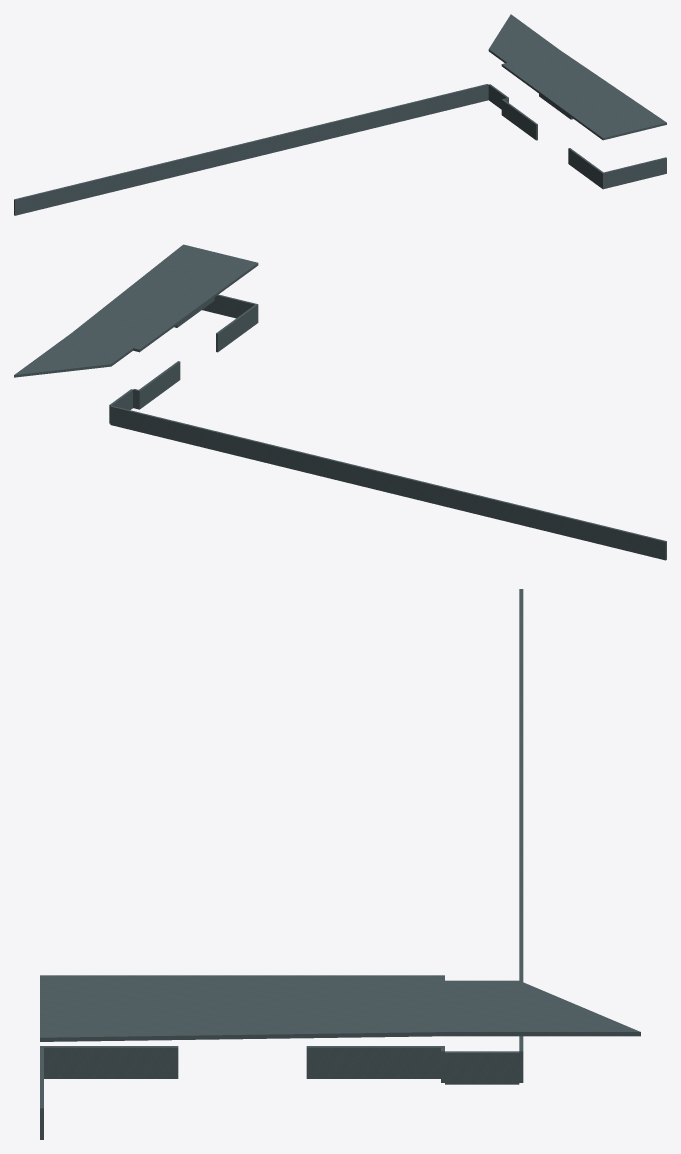
Rendered from AST-STF-009_lower_cap_only_successor_r001.glb.
3 renders of one model, top to bottom at view 1: azimuth 30°, elevation 25°; view 2: azimuth 150°, elevation 25°; view 3: azimuth 270°, elevation 25°, orthographic. The views are drawn at different scales.
Visible parts, largest first — view 1: HOME_BATCH_062_ASTRAEA_staff_bluegrey_paint; view 2: HOME_BATCH_062_ASTRAEA_staff_bluegrey_paint; view 3: HOME_BATCH_062_ASTRAEA_staff_bluegrey_paint.
Boxes of the visible parts, bbox=[...] form: HOME_BATCH_062_ASTRAEA_staff_bluegrey_paint: bbox=[14, 14, 666, 215]; HOME_BATCH_062_ASTRAEA_staff_bluegrey_paint: bbox=[14, 244, 666, 560]; HOME_BATCH_062_ASTRAEA_staff_bluegrey_paint: bbox=[40, 589, 640, 1139].
Size of the model in its own units: 36.4 by 3.34 by 17.8.
Materials: 1 (1 with a texture image).
